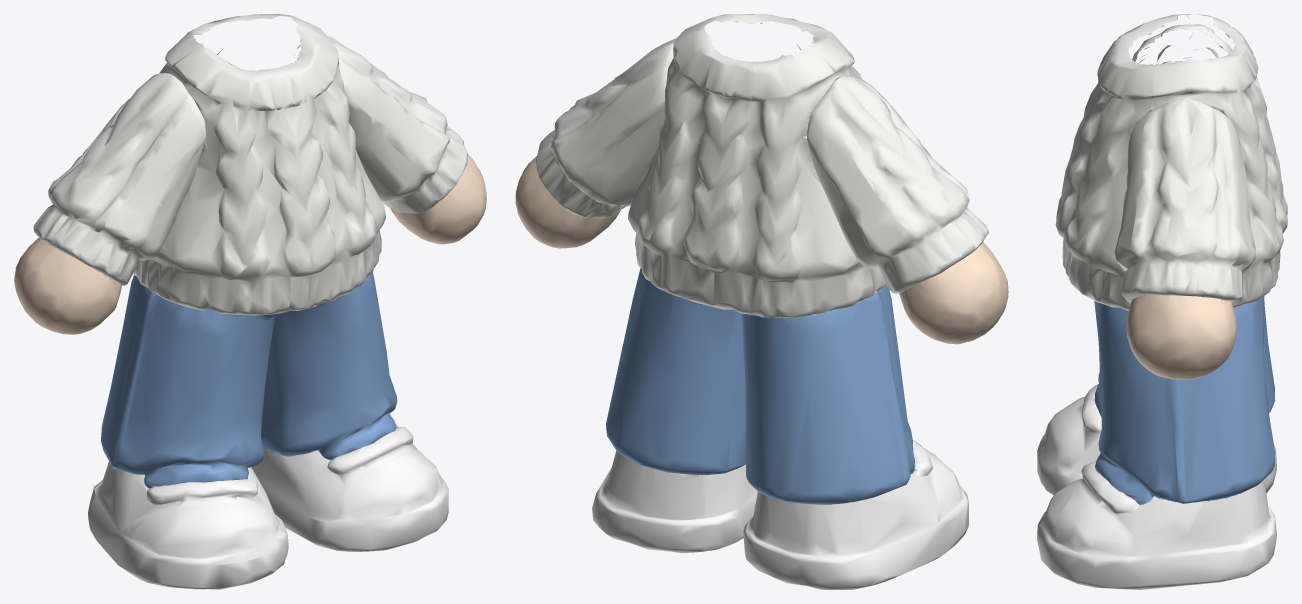
Rendered from outfit_knitwide.glb.
3 views of the same model, side by side, from view 1: azimuth 30°, elevation 25°; view 2: azimuth 150°, elevation 25°; view 3: azimuth 270°, elevation 25° (orthographic). The views are drawn at different scales.
Parts seen in each view (by area): view 1: top, bottom_r, sleeve_r, shoe_r, bottom_l, shoe_l, sleeve_l, hand_r, hand_l; view 2: top, bottom_r, sleeve_r, bottom_l, shoe_r, sleeve_l, shoe_l, hand_r, hand_l; view 3: top, bottom_l, sleeve_l, shoe_l, hand_l, shoe_r, bottom_r, sleeve_r.
Part boxes in pixels (bbox=[...]): top: bbox=[133, 14, 385, 315]; bottom_r: bbox=[101, 275, 281, 488]; sleeve_r: bbox=[33, 72, 206, 285]; shoe_r: bbox=[88, 461, 288, 589]; bottom_l: bbox=[261, 272, 397, 459]; shoe_l: bbox=[251, 423, 448, 551]; sleeve_l: bbox=[297, 36, 467, 213]; hand_r: bbox=[14, 238, 121, 334]; hand_l: bbox=[390, 154, 486, 244]; top: bbox=[628, 14, 885, 318]; bottom_r: bbox=[741, 284, 915, 504]; sleeve_r: bbox=[806, 75, 988, 293]; bottom_l: bbox=[606, 268, 745, 475]; shoe_r: bbox=[743, 439, 968, 589]; sleeve_l: bbox=[535, 38, 676, 218]; shoe_l: bbox=[592, 451, 757, 553]; hand_r: bbox=[899, 242, 1008, 344]; hand_l: bbox=[515, 156, 620, 248]; top: bbox=[1055, 14, 1287, 310]; bottom_l: bbox=[1094, 296, 1274, 504]; sleeve_l: bbox=[1114, 98, 1255, 305]; shoe_l: bbox=[1037, 461, 1276, 589]; hand_l: bbox=[1126, 295, 1236, 379]; shoe_r: bbox=[1037, 384, 1276, 495]; bottom_r: bbox=[1094, 296, 1275, 416]; sleeve_r: bbox=[1132, 24, 1232, 63].
Bounding box in the file's own units: 0.5652 × 0.5736 × 0.2705.
